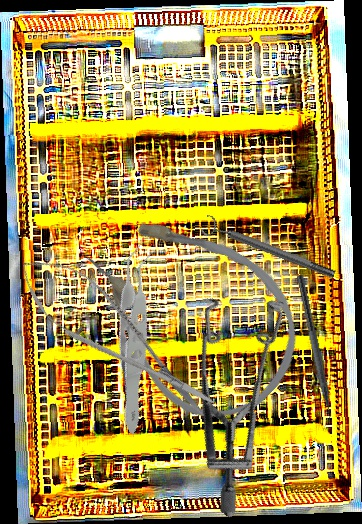Cannula: (55, 173, 331, 449)
Chopper: (286, 274, 339, 432)
Fixation Ring: (199, 212, 339, 287)
Micro Scissor: (5, 240, 228, 433)
Speculum: (106, 262, 354, 519)
Tissue Forceps: (49, 234, 229, 435)
